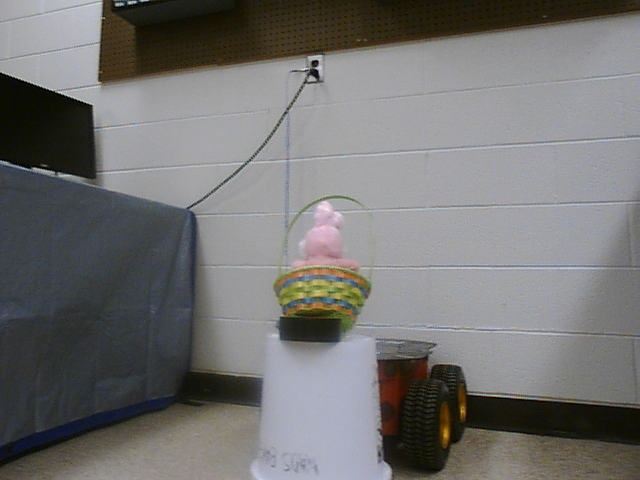bunny: (268, 190, 383, 329)
